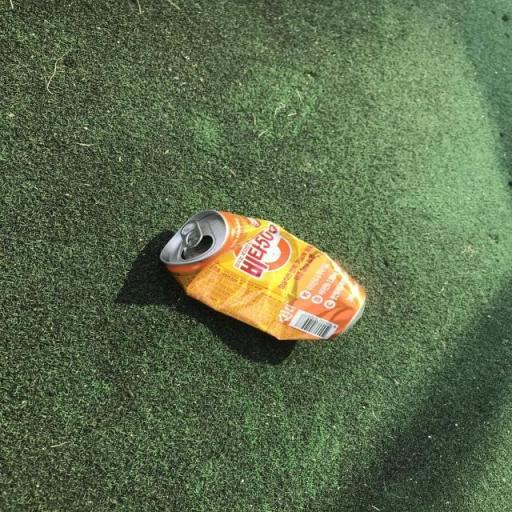metal: (141, 202, 382, 361)
